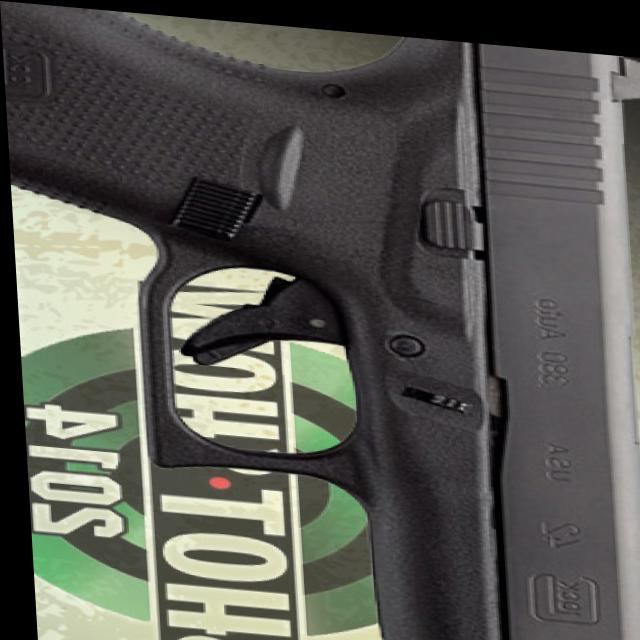handgun: (2, 2, 640, 640)
